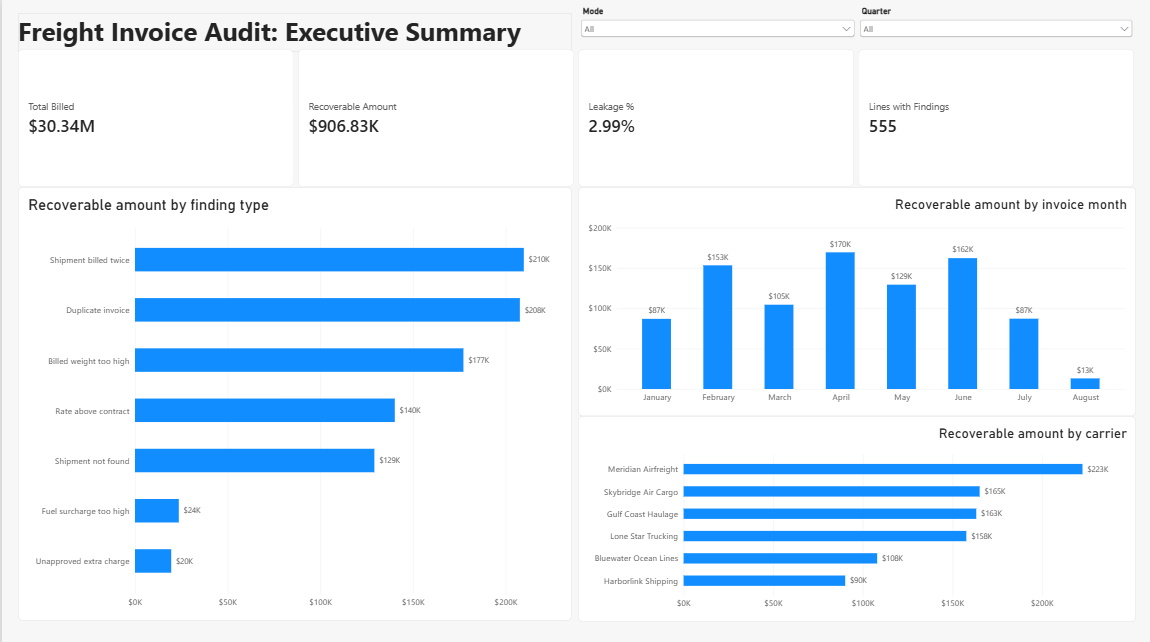

This screenshot's page, from the dashboard's own definition file:
{"tool":"powerbi","page":{"name":"Executive Summary","canvas":[1920,1080],"ordinal":0},"visuals":[{"type":"textbox","box":[26.7,21.7,923.3,65],"z":0},{"type":"cardVisual","fields":{"Data":["fact_invoice_audit.Total Billed","fact_invoice_audit.Recoverable Amount","fact_invoice_audit.Leakage %","fact_invoice_audit.Lines with Findings"]},"box":[26.7,81.7,1863.3,230],"z":1000},{"type":"clusteredBarChart","title":"Recoverable amount by finding type","fields":{"Category":["dim_finding.finding_label"],"Y":["fact_invoice_audit.Recoverable Amount"]},"box":[27,312,923,723],"z":2000},{"type":"clusteredColumnChart","title":"\tRecoverable amount by invoice month","fields":{"Category":["dim_date.month_name"],"Y":["fact_invoice_audit.Recoverable Amount"]},"box":[960,311.7,930,381.7],"z":3000},{"type":"clusteredBarChart","title":"Recoverable amount by carrier","fields":{"Category":["dim_carrier.carrier_name"],"Y":["fact_invoice_audit.Recoverable Amount"]},"box":[960,693.3,930,343.3],"z":4000},{"type":"slicer","fields":{"Values":["dim_carrier.mode"]},"box":[960,10,465.7,67.1],"z":5000},{"type":"slicer","fields":{"Values":["dim_finding.finding_group"]},"box":[1425.7,10,464.3,71.4],"z":6000}]}

Visuals, with their boxes in screenshot pixels (x1, y1, x2, y2), scaled from the page's 1920x1080 canvas onto the 1150x642 screenshot:
textbox: 16/13/569/52
cardVisual - fact_invoice_audit.Total Billed x fact_invoice_audit.Recoverable Amount: 16/49/1132/185
"Recoverable amount by finding type" clusteredBarChart: 16/185/569/615
"	Recoverable amount by invoice month" clusteredColumnChart: 575/185/1132/412
"Recoverable amount by carrier" clusteredBarChart: 575/412/1132/616
slicer - dim_carrier.mode: 575/6/854/46
slicer - dim_finding.finding_group: 854/6/1132/48
